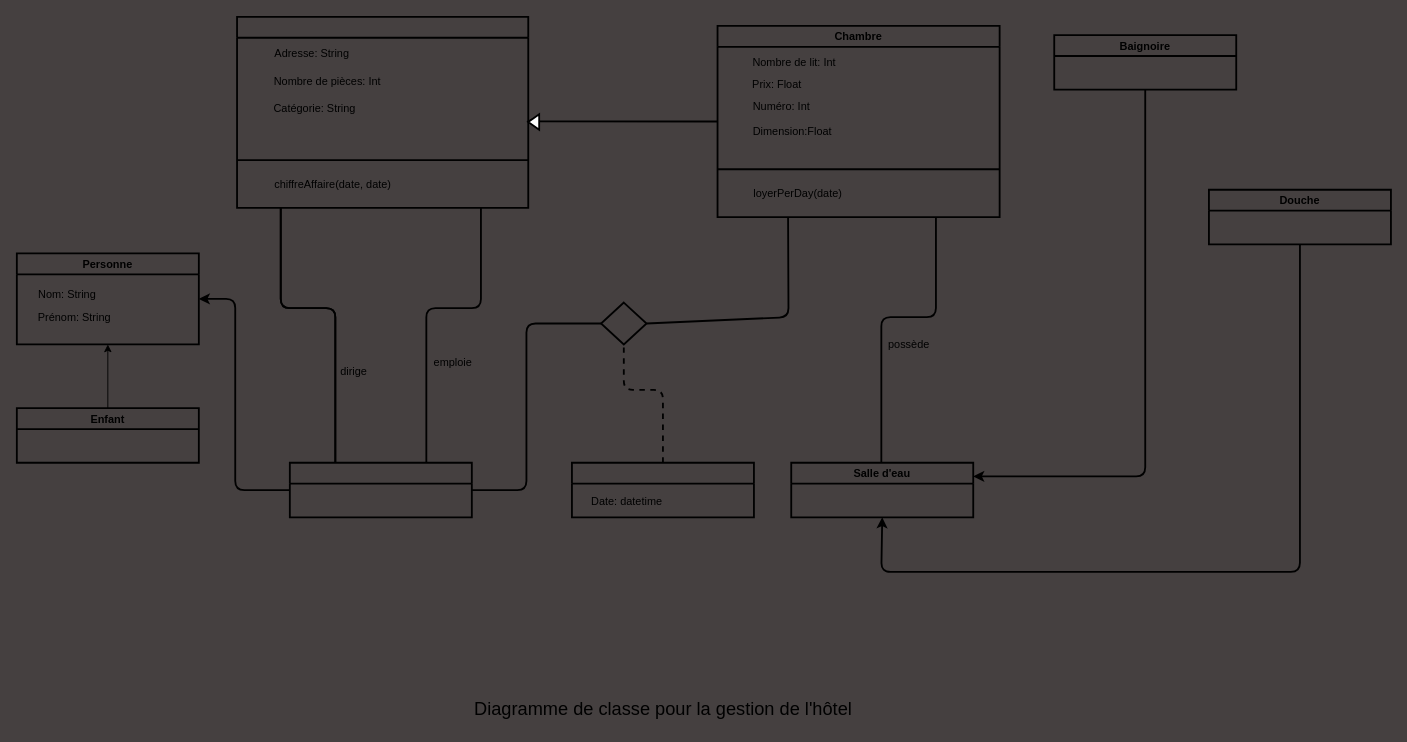
Some shapes in this 1407 by 742 pixel diagram are drawn without their labels. Each missing label, with the box of its shape:
Adulte: (288, 461, 472, 518)
Hôtel: (236, 15, 529, 208)
Location: (571, 461, 754, 518)
